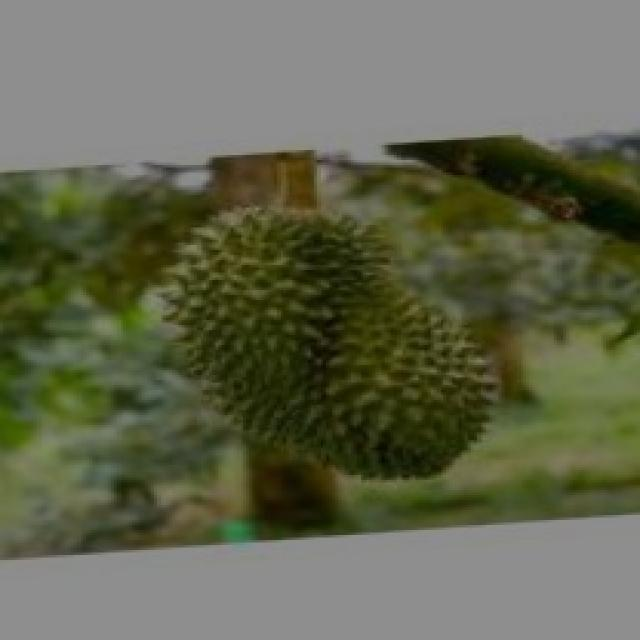fruit: (127, 162, 536, 508)
